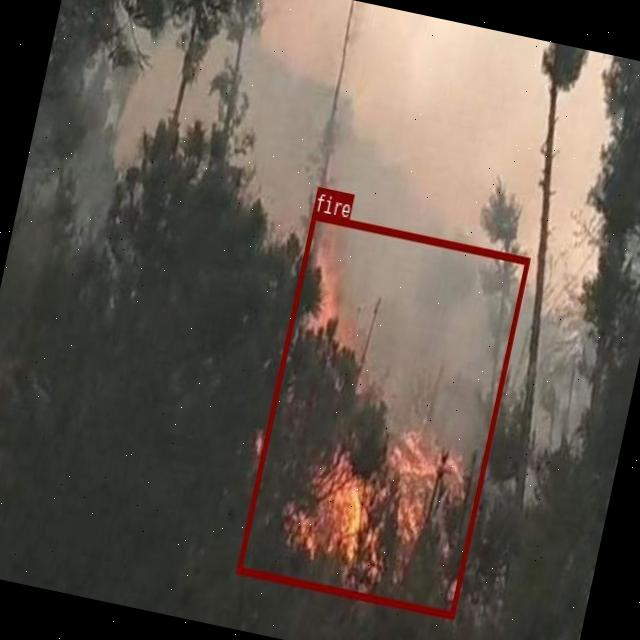fire: (236, 211, 530, 617)
